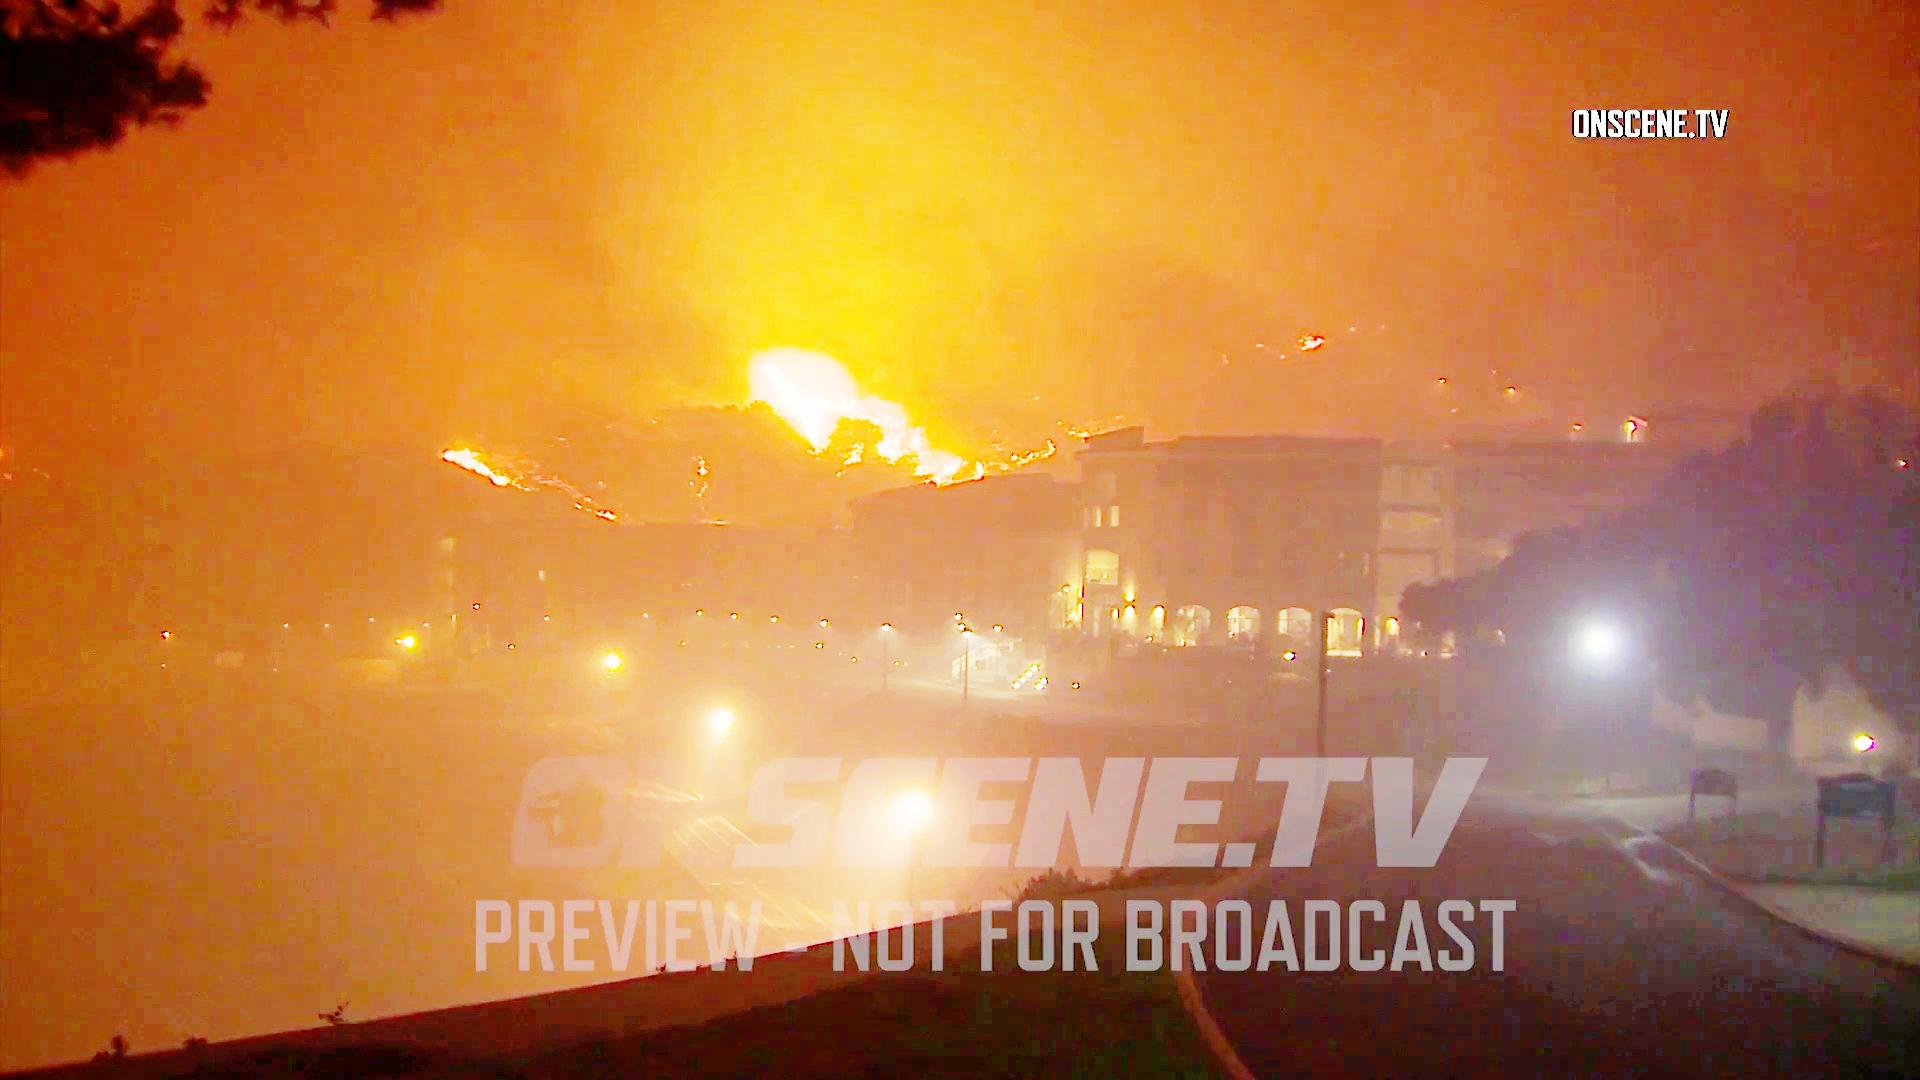fire: (766, 365, 843, 433)
